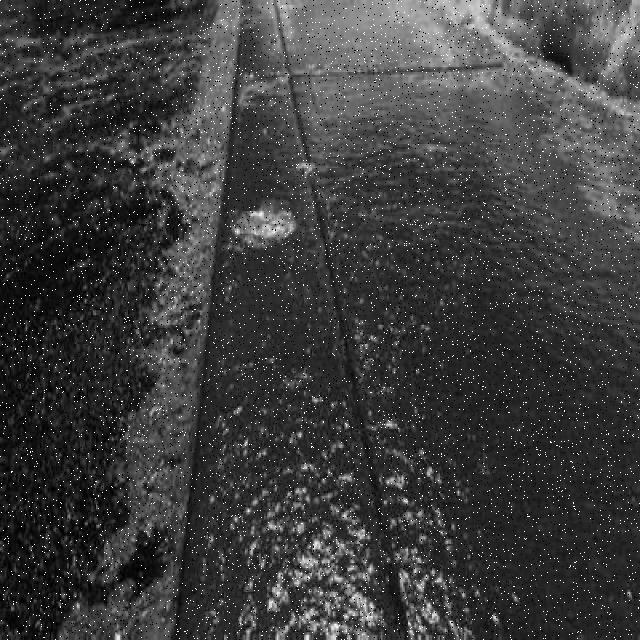ice-road: (0, 2, 640, 640)
